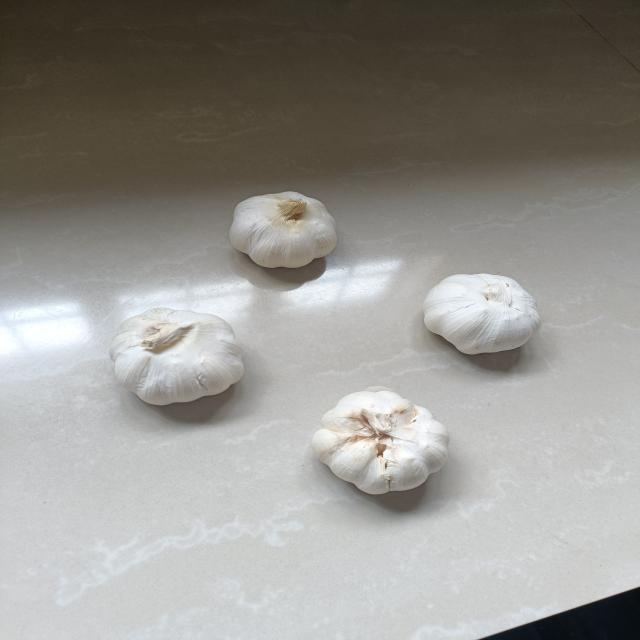garlic: (306, 383, 459, 495), (105, 304, 256, 412), (416, 270, 547, 357), (222, 188, 345, 273)
